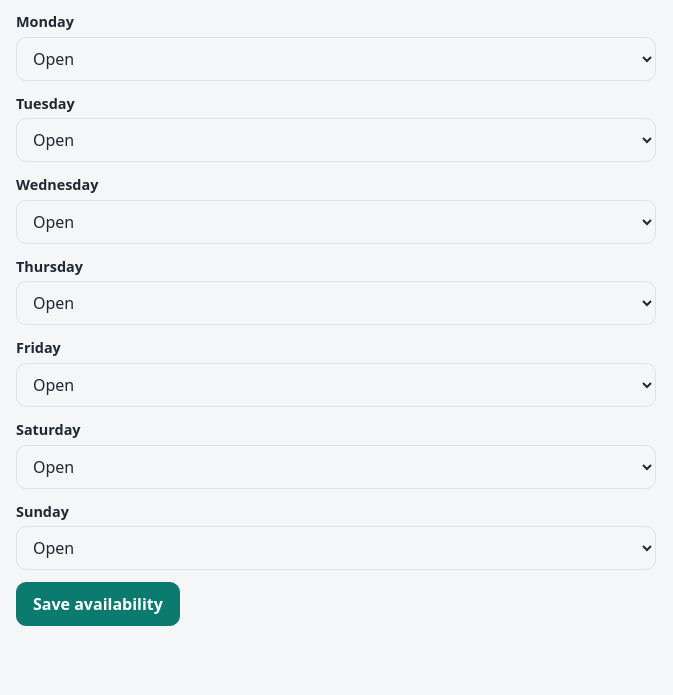
Test: AvailabilityEditor › shows the reason and keeps the choices when saving fails
Select "Off" in the dropdown labelled "Tuesday" at [336, 140], box top-left (16, 118), bottom-right (656, 162)
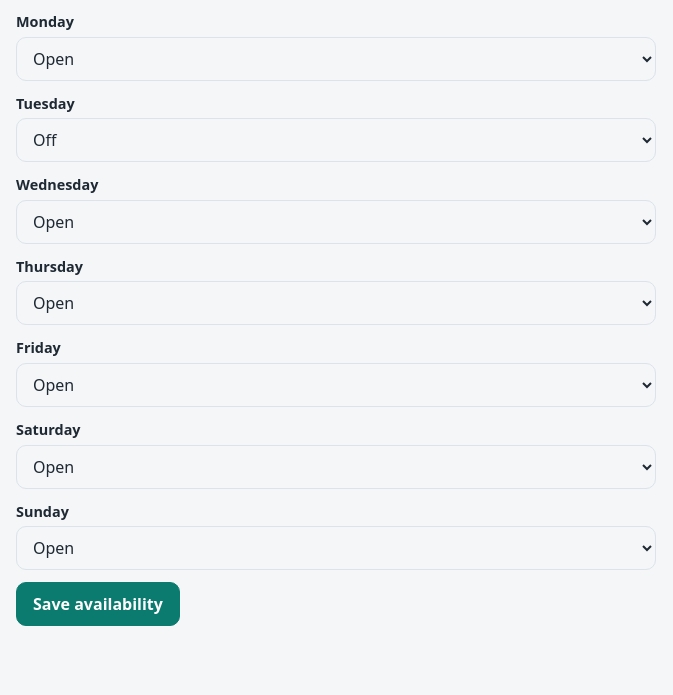
Click the button "Save availability" at [98, 604], box top-left (16, 582), bottom-right (180, 626)
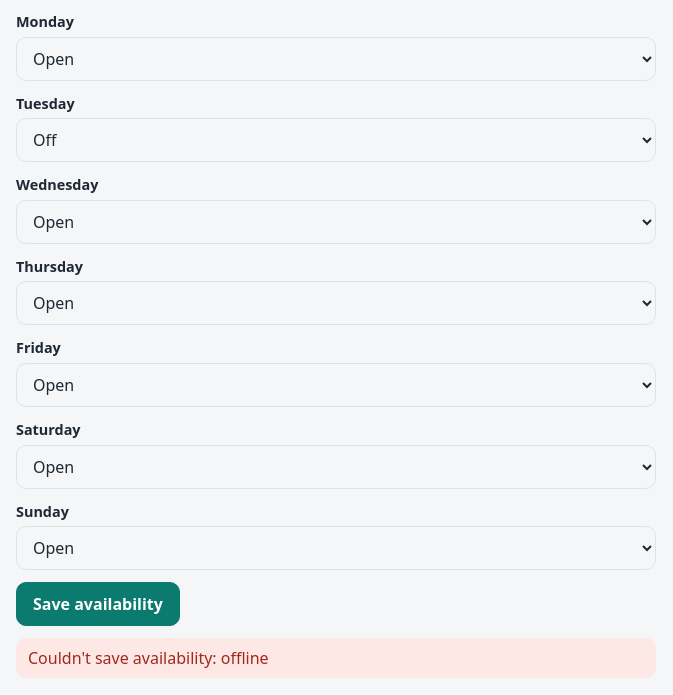
Result: the message reads "Couldn't save availability: offline" at top-left (28, 647), bottom-right (269, 669)
